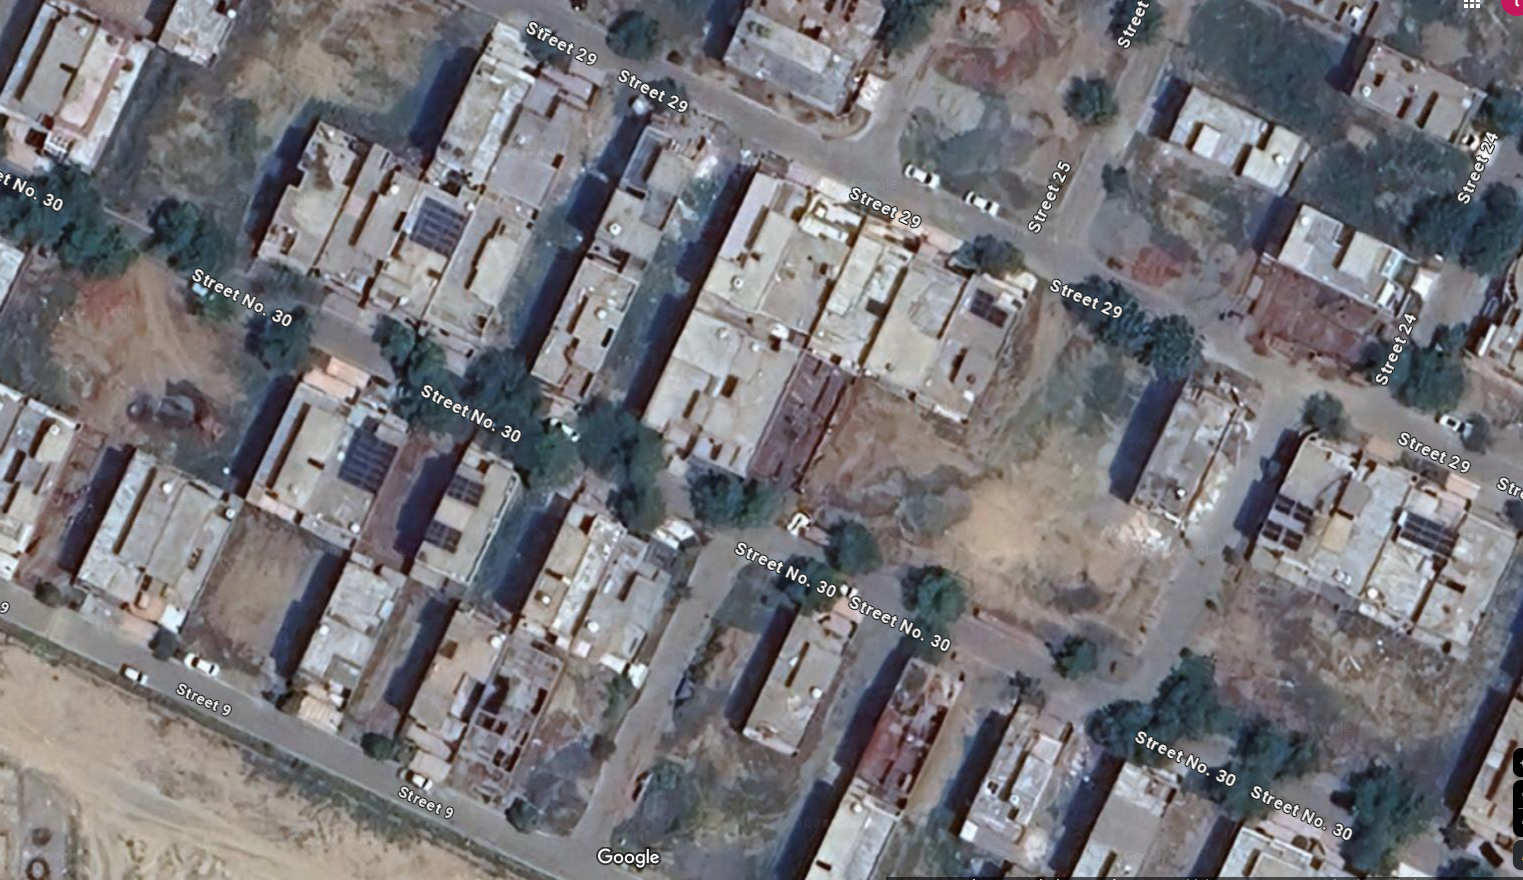solar-panel: (421, 198, 471, 255), (343, 434, 390, 489), (1403, 513, 1449, 556), (436, 479, 484, 503), (975, 292, 1009, 327), (1274, 496, 1312, 523), (432, 523, 462, 548), (1271, 525, 1300, 549)
